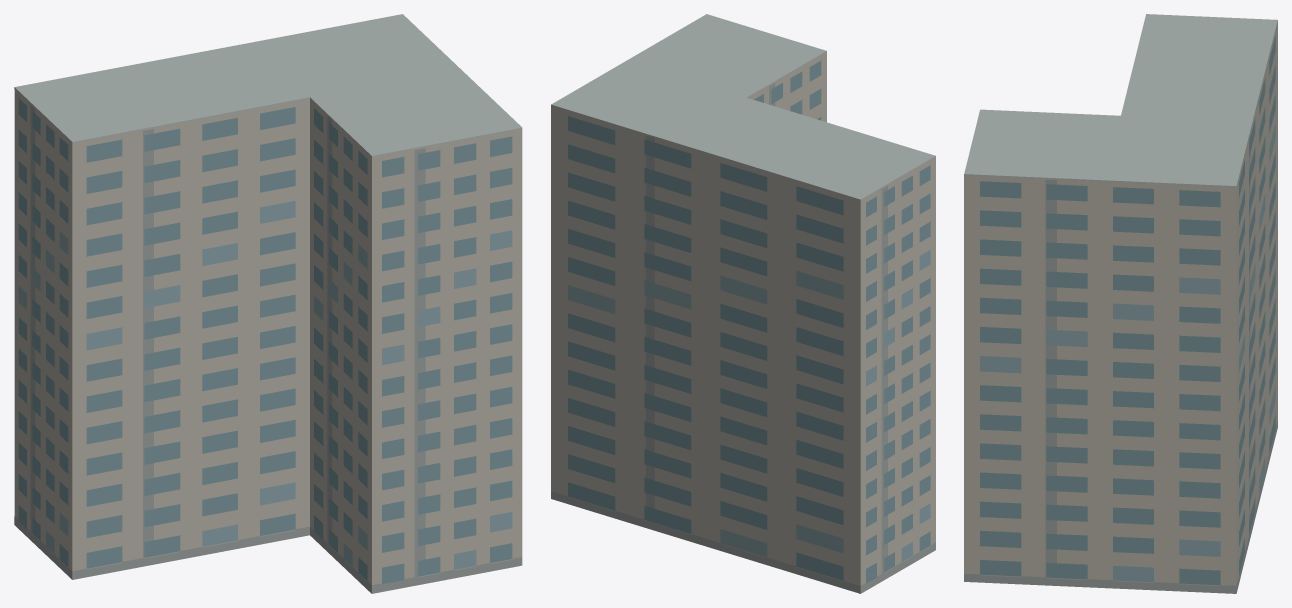
File: residential-e7a574e2-9331-4fa7-81dd-0bee5c7786a9.glb
3 views of the same model, side by side, from view 1: azimuth 30°, elevation 25°; view 2: azimuth 150°, elevation 25°; view 3: azimuth 270°, elevation 25° (orthographic). The views are drawn at different scales.
Visible parts, largest first — view 1: residential-e7a574e2-9331-4fa7-81dd-0bee5c7786a9.tmp; view 2: residential-e7a574e2-9331-4fa7-81dd-0bee5c7786a9.tmp; view 3: residential-e7a574e2-9331-4fa7-81dd-0bee5c7786a9.tmp.
Boxes of the visible parts, <box> form: residential-e7a574e2-9331-4fa7-81dd-0bee5c7786a9.tmp: <box>14,14,522,593</box>; residential-e7a574e2-9331-4fa7-81dd-0bee5c7786a9.tmp: <box>551,14,935,593</box>; residential-e7a574e2-9331-4fa7-81dd-0bee5c7786a9.tmp: <box>964,14,1277,593</box>.
Bounding box in the file's own units: 43.47 × 48 × 33.47.
